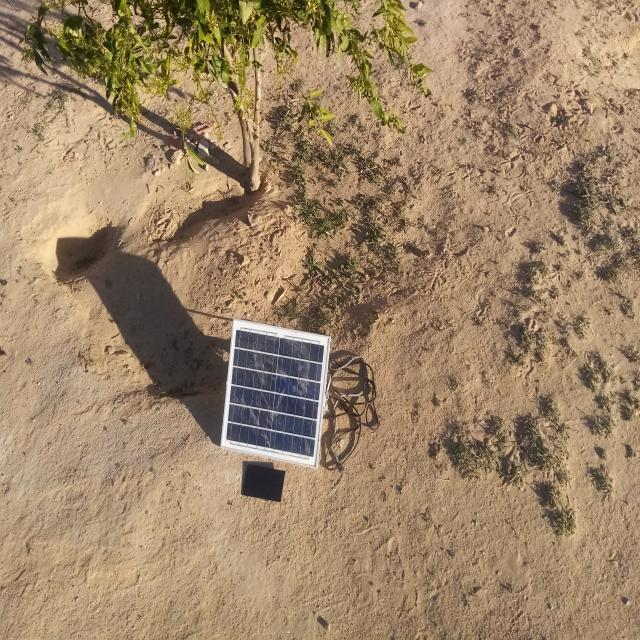faulty: (221, 319, 329, 469)
no faulty: (240, 466, 286, 502)
